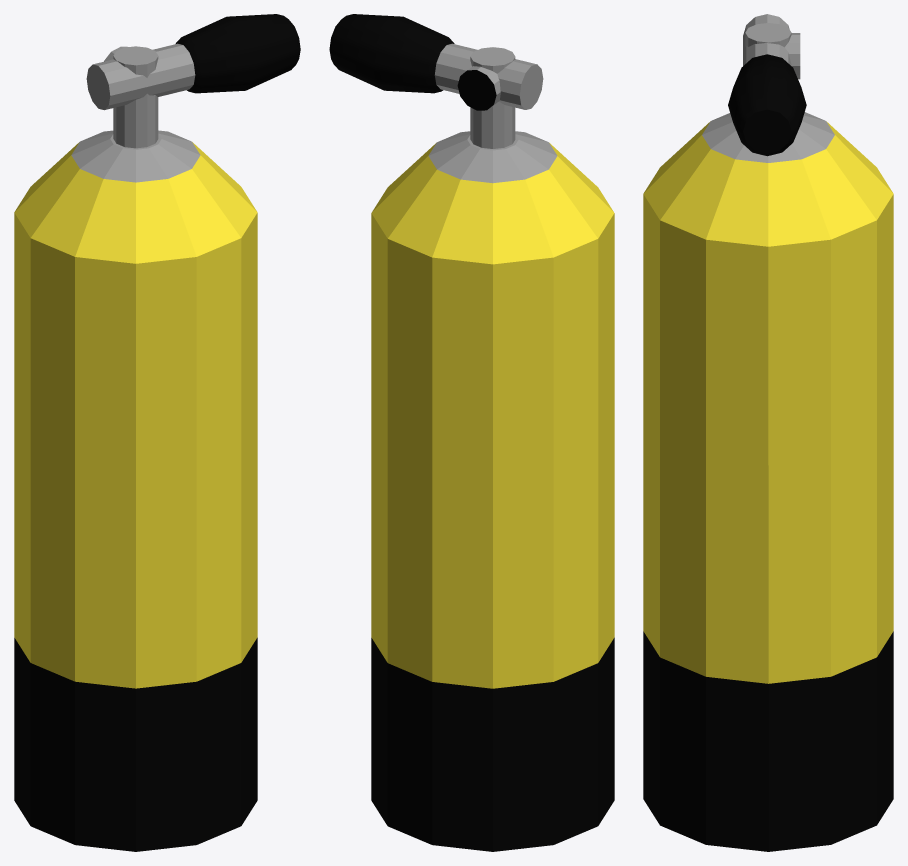
The model's file is tank.fbx.
3 renders of one model, left to right at view 1: azimuth 30°, elevation 25°; view 2: azimuth 150°, elevation 25°; view 3: azimuth 270°, elevation 25°, orthographic. The views are drawn at different scales.
Visible parts, largest first — view 1: tank; view 2: tank; view 3: tank.
Part boxes in pixels (x1,y1,x2,y2): tank: [14, 14, 300, 851]; tank: [329, 14, 614, 851]; tank: [643, 14, 893, 851].
Size of the model in its own units: 33.02 by 92.75 by 27.
